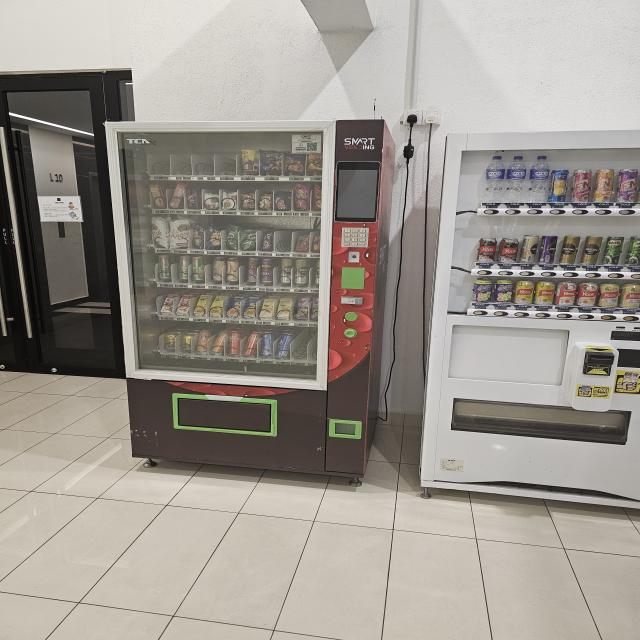footpath: (2, 497, 640, 640)
obstacle: (99, 116, 395, 490), (413, 120, 640, 519)
